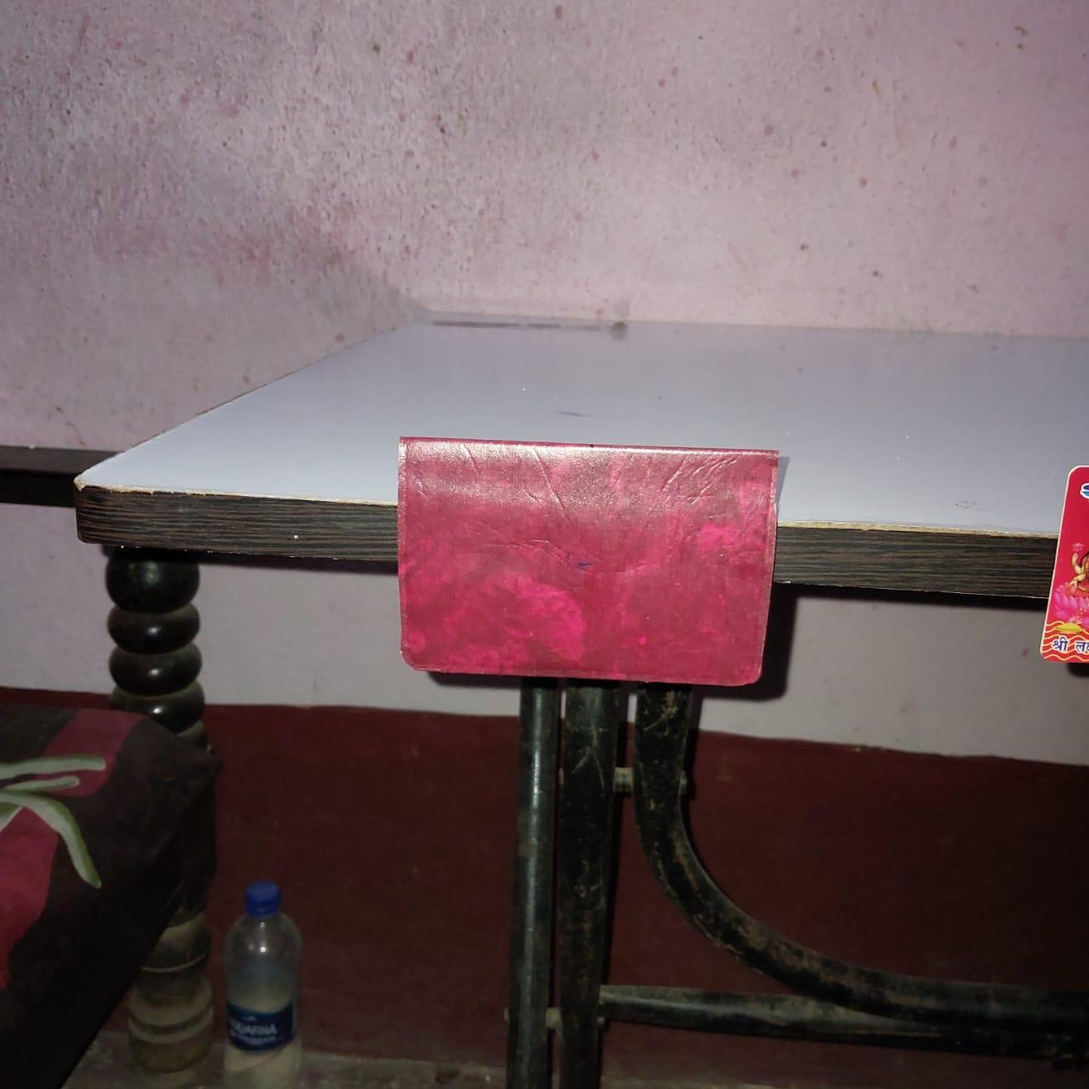blessing_card: (1040, 466, 1088, 670)
wallet: (398, 441, 783, 690)
